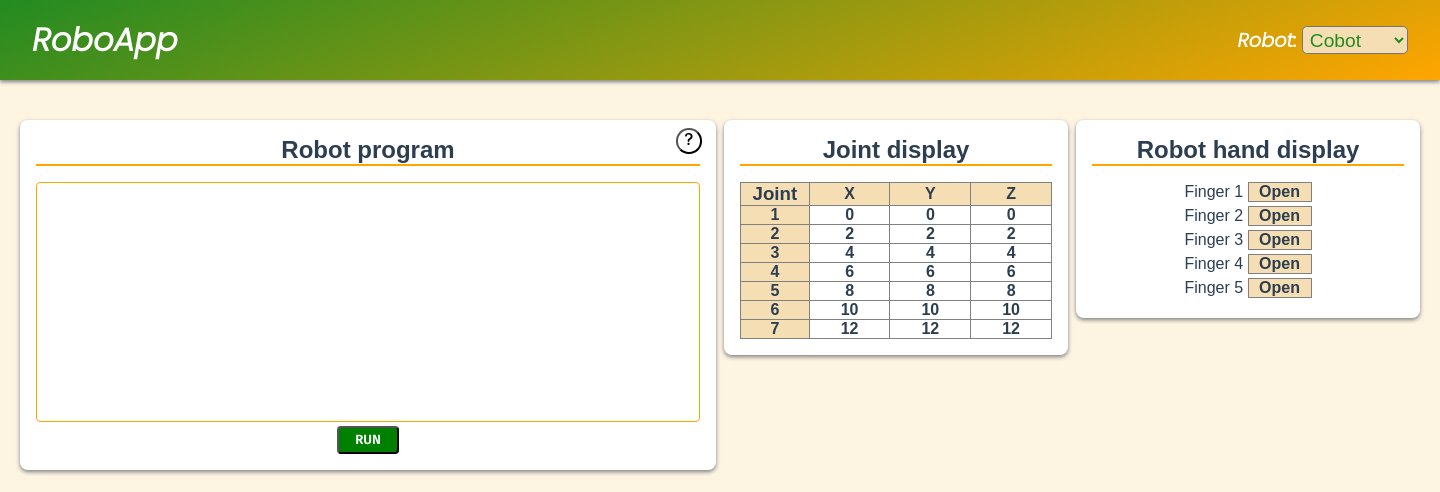
Scenario: RoboApp test suite › Movement › When extra whitespace, should appropriately work
Type "move     4     y77" into the text box at (368, 302), box [36,182,700,422]
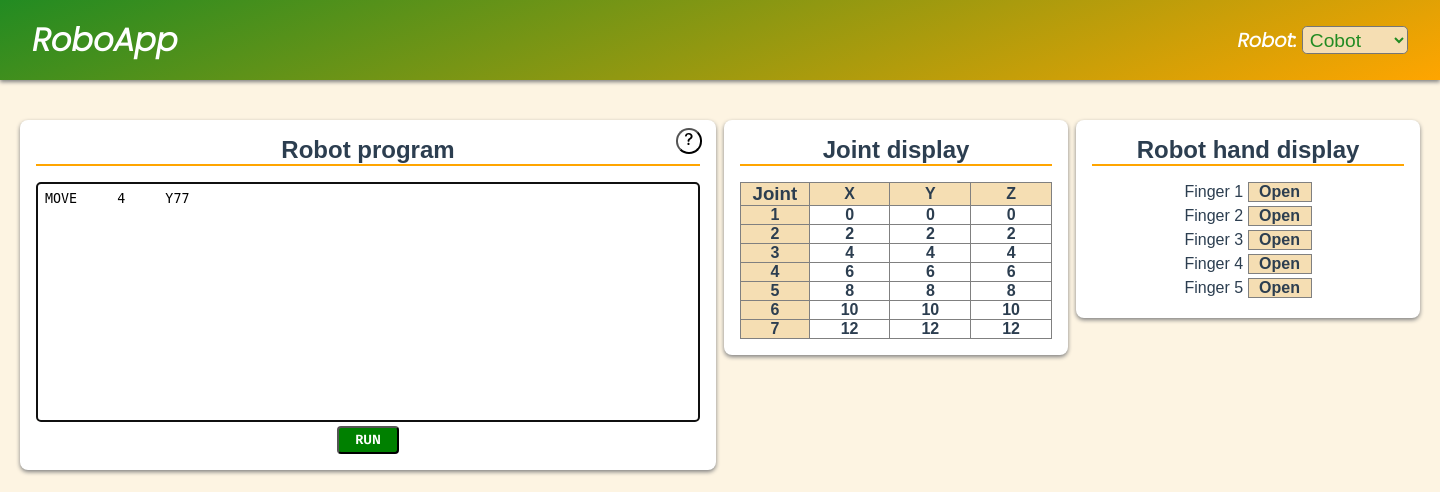
Click the button "Run" at (368, 440), box [337,426,399,454]
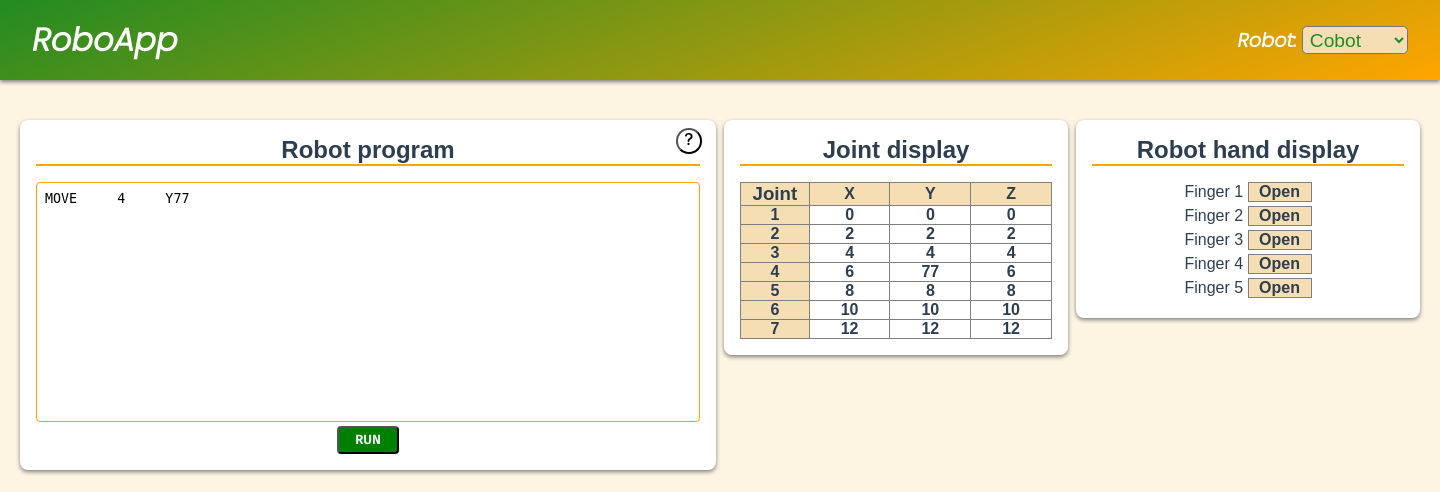
Result: the cell "77" is shown at [890,262,971,282]
